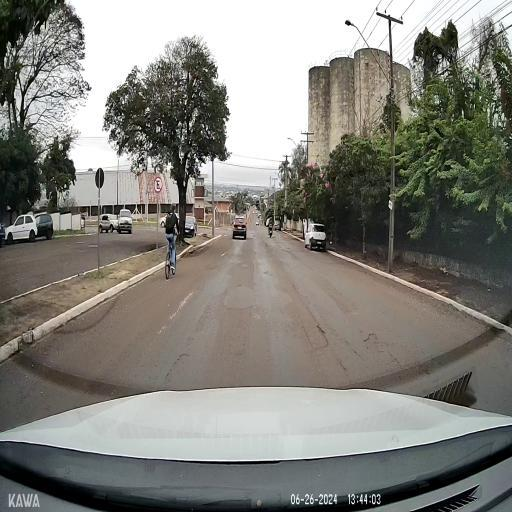R-6a: (154, 178, 163, 192)
